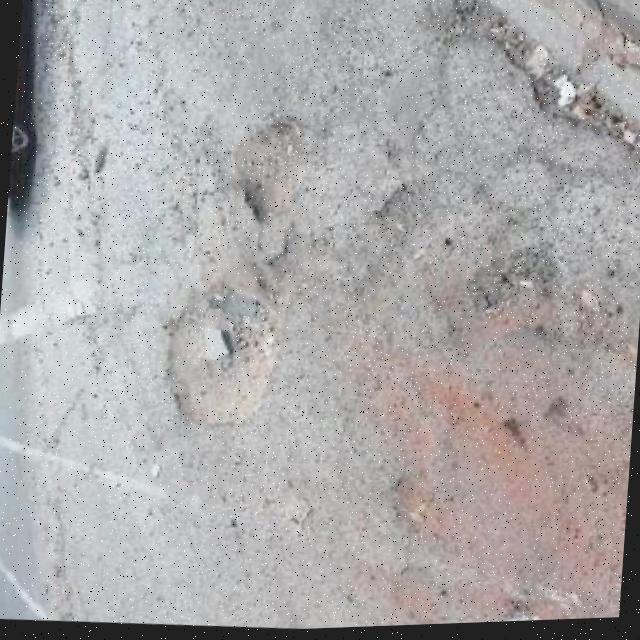Pothole: (440, 0, 640, 225), (155, 271, 288, 437), (226, 112, 326, 231), (461, 242, 565, 354)
